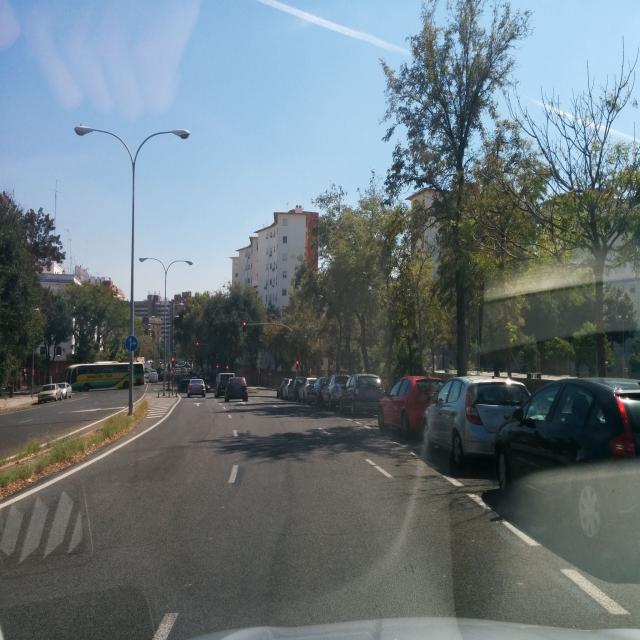car: (493, 377, 640, 546), (421, 374, 532, 469), (378, 375, 443, 437), (339, 372, 383, 417), (321, 373, 350, 409), (224, 377, 249, 402), (309, 376, 329, 406), (214, 372, 236, 398), (37, 383, 63, 403), (298, 377, 316, 402), (288, 377, 305, 401), (187, 378, 206, 397), (276, 378, 290, 398), (56, 382, 72, 398), (177, 377, 191, 392), (148, 369, 159, 383)
